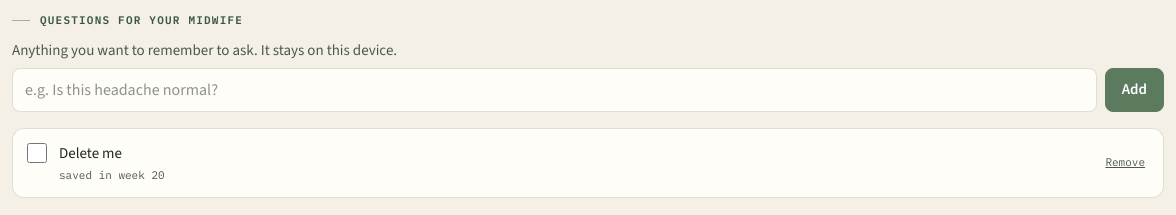
Scenario: questions for your midwife › can remove one outright
This screenshot has width=1176, height=215.
Click the button "Remove" at [1125, 163], box [1101,141,1149,185]
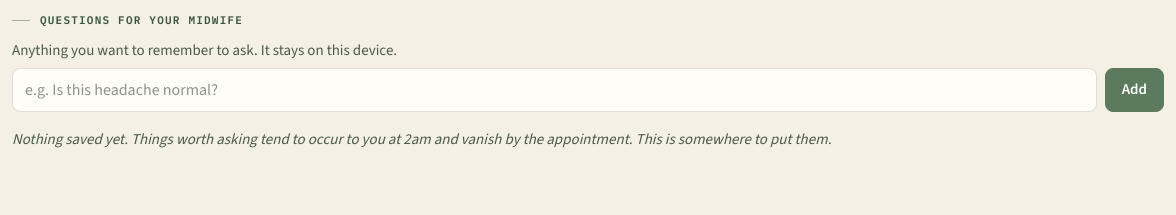
Result: the text "Delete me" is gone
